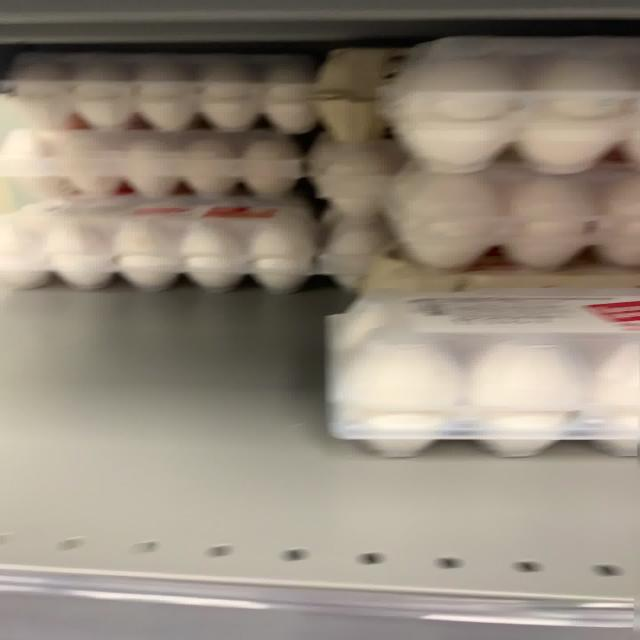egg box: (18, 194, 322, 282)
